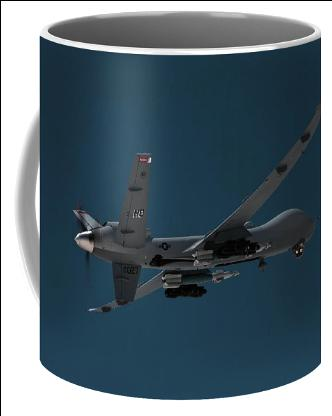MQ9: (70, 100, 320, 312)
